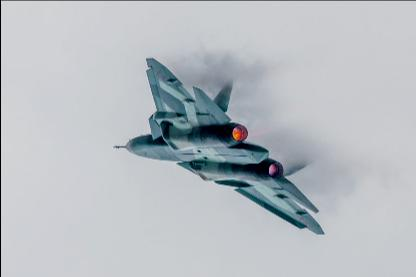SR71: (112, 58, 322, 234)
